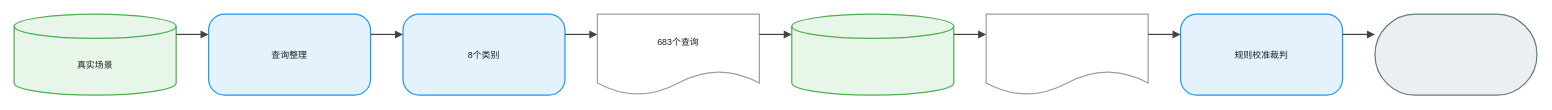
The diagram is 1552 pixels wide and 110 high, and some of its shapes have lost their labels. The centre of each missing label's shape, as x and y in pixels:
"1-10分" goes at point (1455, 54).
"人工参考" goes at point (1066, 54).
"网页证据" goes at point (872, 54).
